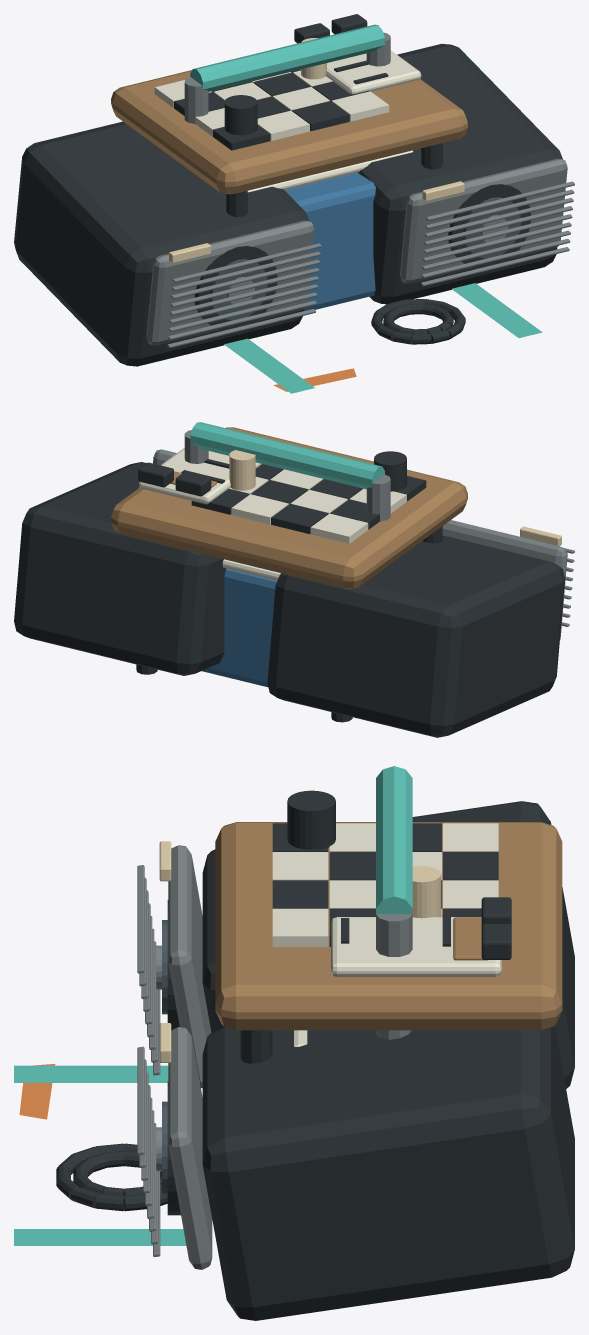
Rendered from city-guide-park.glb.
3 renders of one model, top to bottom at view 1: azimuth 30°, elevation 25°; view 2: azimuth 150°, elevation 25°; view 3: azimuth 270°, elevation 25°, orthographic. The views are drawn at different scales.
Visible parts, largest first — view 1: Coiled signal cable, Central speaker cap, Ink band.006, Ink band.005, Low sports drill stand, Black binder clip.004, Chess score slip, Speaker cone, Grip in relief, Gaffer recognition stripe, Grip drills, Short torn stage tape; view 2: Coiled signal cable, Ink band.006, Black binder clip.004, Chess score slip, Low sports drill stand, Ink band.005, Central speaker cap, Grip in relief, Light pawn, Grip drills, Gaffer recognition stripe; view 3: Coiled signal cable, Ink band.006, Central speaker cap, Chess score slip, Black binder clip.004, Ink band.005, Grip in relief, Light pawn, Speaker cone, Short torn stage tape, Gaffer recognition stripe.
Part boxes in pixels (left/top/right/bottom): Coiled signal cable: left=14, top=43, right=562, bottom=366; Central speaker cap: left=146, top=158, right=574, bottom=348; Ink band.006: left=111, top=70, right=467, bottom=194; Ink band.005: left=190, top=24, right=542, bottom=393; Low sports drill stand: left=285, top=172, right=375, bottom=310; Black binder clip.004: left=174, top=14, right=442, bottom=217; Chess score slip: left=154, top=50, right=421, bottom=140; Speaker cone: left=210, top=197, right=521, bottom=320; Grip in relief: left=184, top=32, right=390, bottom=123; Gaffer recognition stripe: left=169, top=181, right=464, bottom=263; Grip drills: left=247, top=150, right=413, bottom=192; Short torn stage tape: left=273, top=368, right=356, bottom=391; Coiled signal cable: left=14, top=462, right=564, bottom=737; Ink band.006: left=111, top=427, right=467, bottom=588; Black binder clip.004: left=136, top=451, right=442, bottom=722; Chess score slip: left=139, top=448, right=406, bottom=543; Low sports drill stand: left=202, top=568, right=276, bottom=687; Ink band.005: left=190, top=422, right=384, bottom=489; Central speaker cap: left=153, top=449, right=574, bottom=639; Grip in relief: left=184, top=430, right=390, bottom=521; Light pawn: left=229, top=450, right=255, bottom=490; Grip drills: left=222, top=559, right=280, bottom=580; Gaffer recognition stripe: left=520, top=526, right=561, bottom=546; Coiled signal cable: left=56, top=801, right=574, bottom=1320; Ink band.006: left=215, top=822, right=562, bottom=1030; Central speaker cap: left=137, top=845, right=212, bottom=1269; Chess score slip: left=272, top=823, right=501, bottom=976; Black binder clip.004: left=240, top=790, right=511, bottom=1063; Ink band.005: left=14, top=766, right=412, bottom=1245; Grip in relief: left=376, top=914, right=412, bottom=1039; Light pawn: left=412, top=866, right=441, bottom=918; Speaker cone: left=162, top=920, right=167, bottom=1195; Short torn stage tape: left=19, top=1064, right=55, bottom=1119; Gaffer recognition stripe: left=159, top=841, right=171, bottom=1062.
Size of the model in its own units: 1.35 by 0.686 by 1.02.
